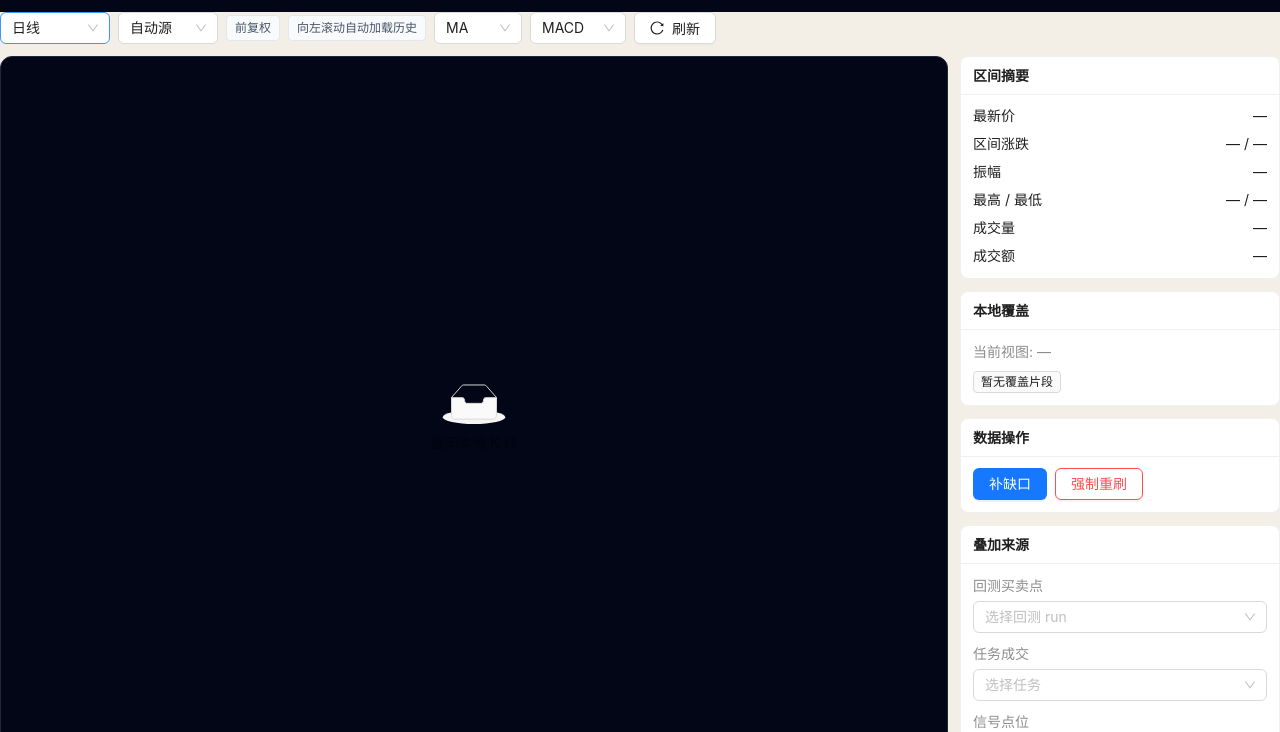
Test case: LocalMarketKlinePanel › shows the adjust-drift full-refresh message when an inline sync reports it
Click the button "补缺口": click(1010, 484) [973,468,1047,500]
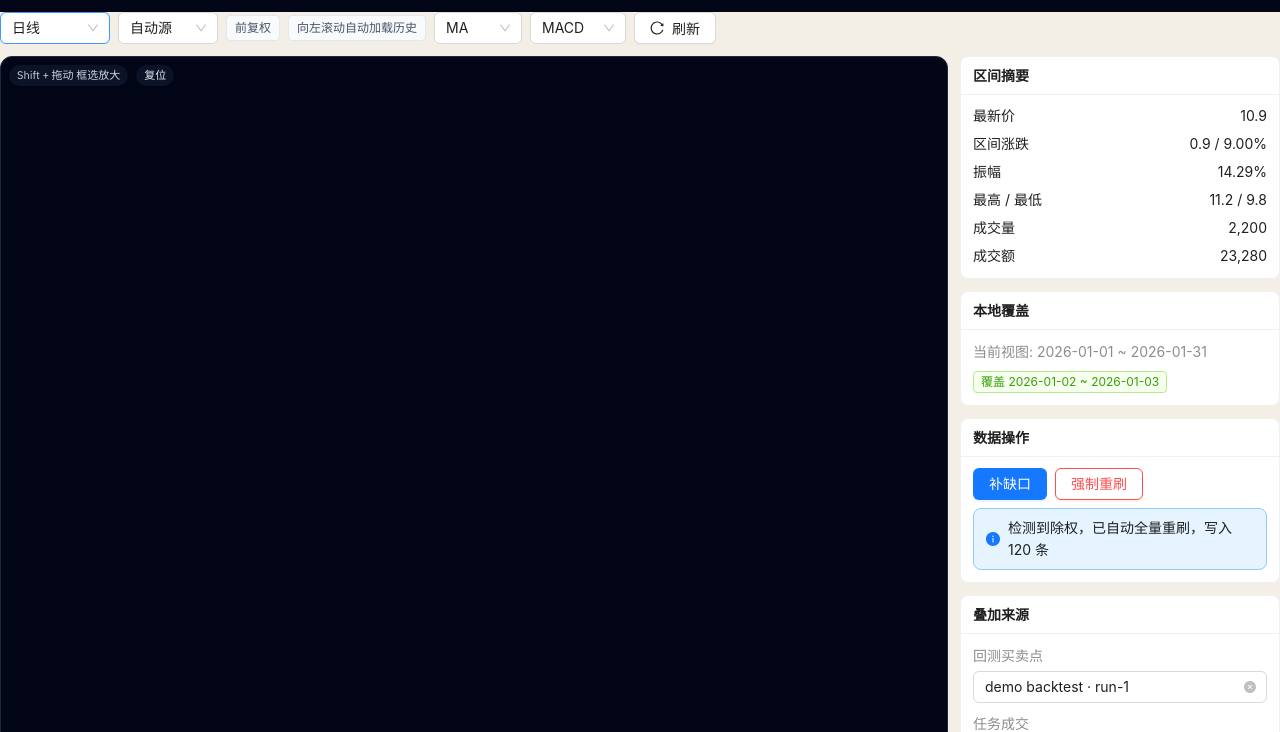
Now the text "检测到除权，已自动全量重刷，写入 120 条" is shown, box [1008,517,1254,561]
